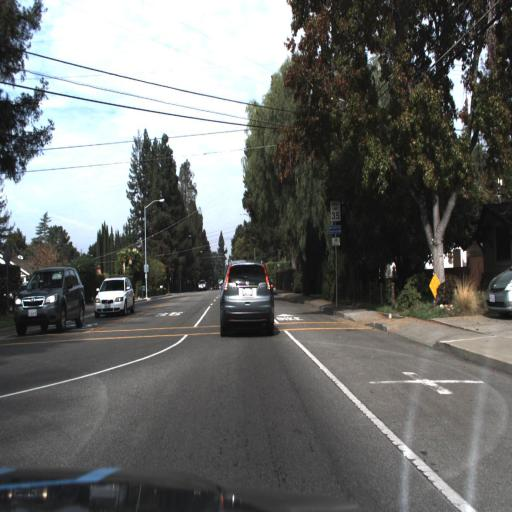car: (210, 245, 283, 352), (8, 259, 91, 346), (87, 271, 137, 324), (197, 276, 210, 293)
